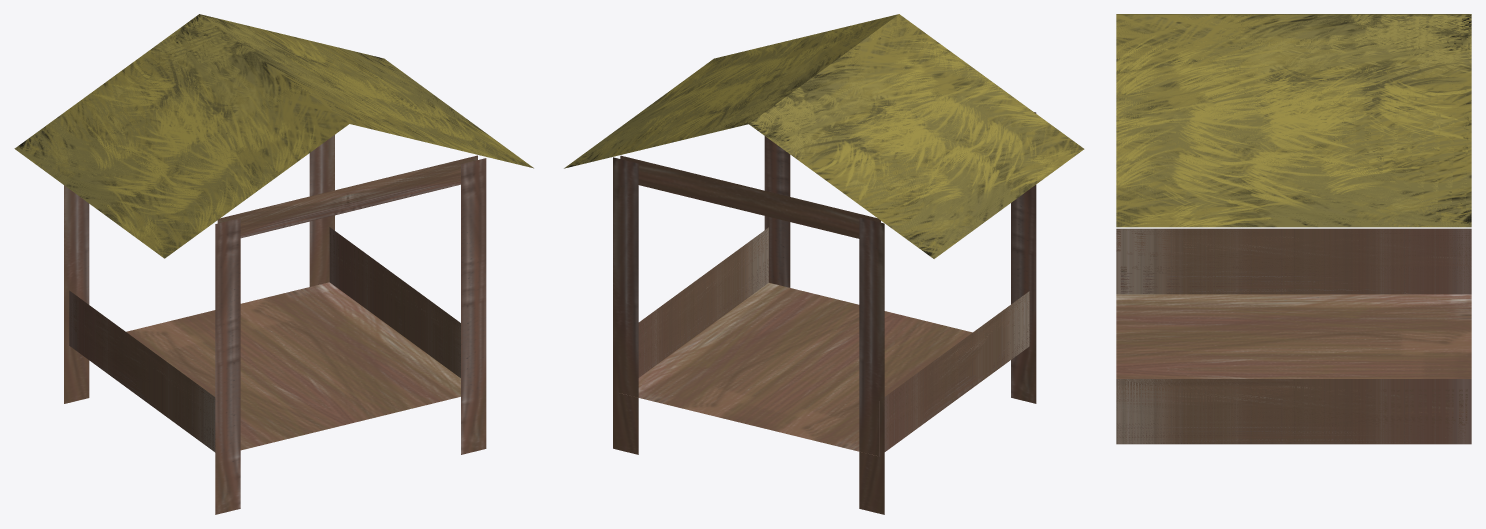
Rendered from poss.glb.
3 views of the same model, side by side, from view 1: azimuth 30°, elevation 25°; view 2: azimuth 150°, elevation 25°; view 3: azimuth 270°, elevation 25° (orthographic). The views are drawn at different scales.
Visible parts, largest first — view 1: Plane.003; view 2: Plane.003; view 3: Plane.003.
Boxes of the visible parts, x1,y1,x2,y2 form: Plane.003: (14,14,533,514); Plane.003: (564,14,1084,514); Plane.003: (1116,14,1471,444).
Bounding box in the file's own units: 4.72 × 4.35 × 3.35.
2 materials, 2 textured.
